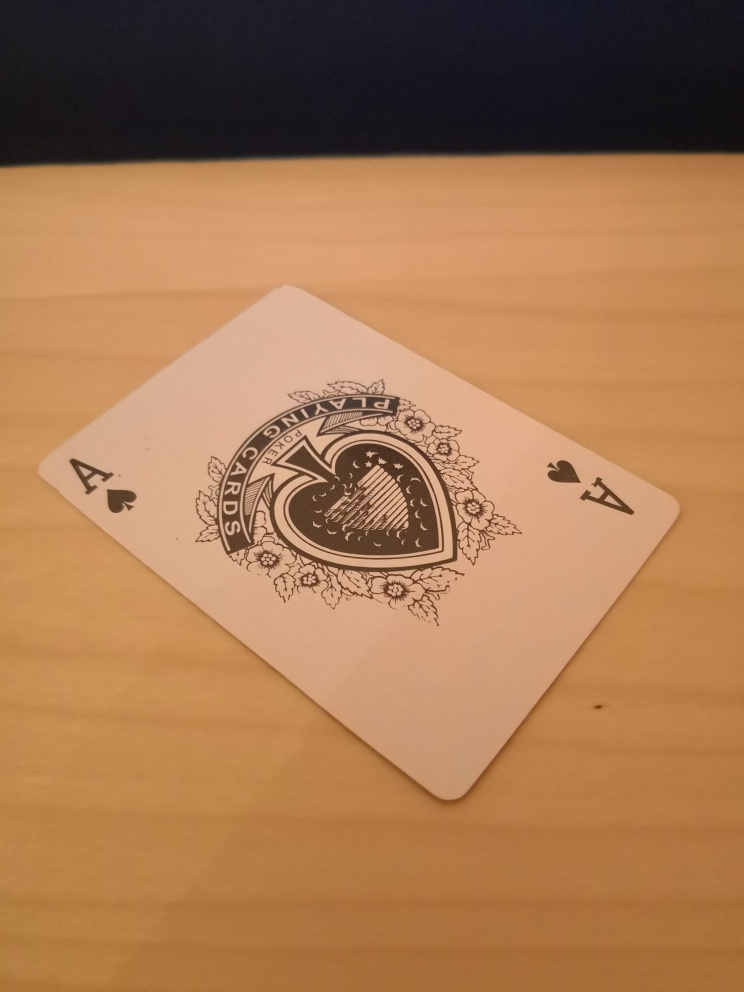ace: (35, 283, 683, 805)
